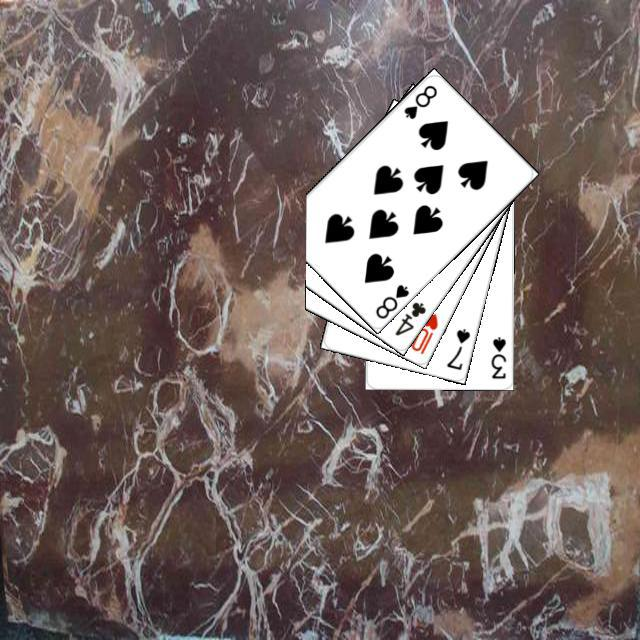10h: (406, 308, 440, 356)
3s: (486, 332, 508, 380)
4c: (390, 297, 428, 337)
7s: (442, 323, 472, 372)
8s: (370, 279, 411, 321), (399, 80, 439, 121)
